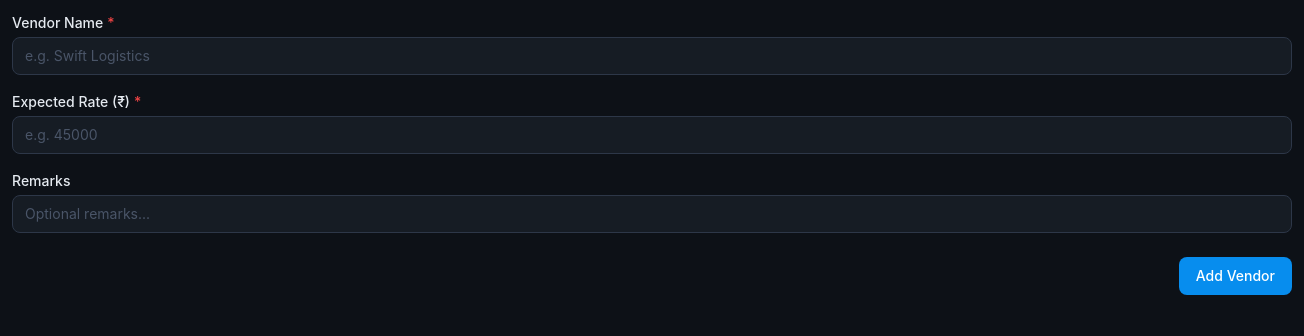
Scenario: AddVendorForm › shows error when rate is negative
Type "Test Vendor" into the field labelled "Vendor Name*" at x=652, y=56, box x1=12 y1=37 x2=1292 y2=75
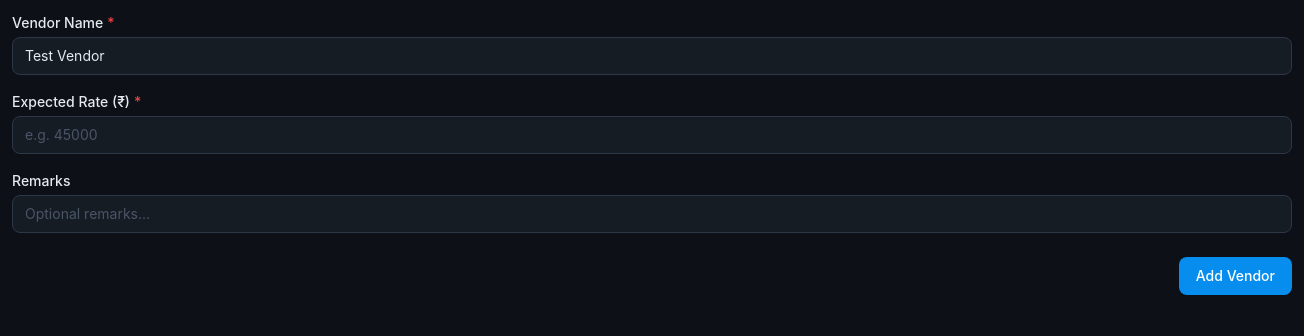
Type "-500" into the number field labelled "Expected Rate (₹)*" at x=652, y=135, box x1=12 y1=116 x2=1292 y2=154
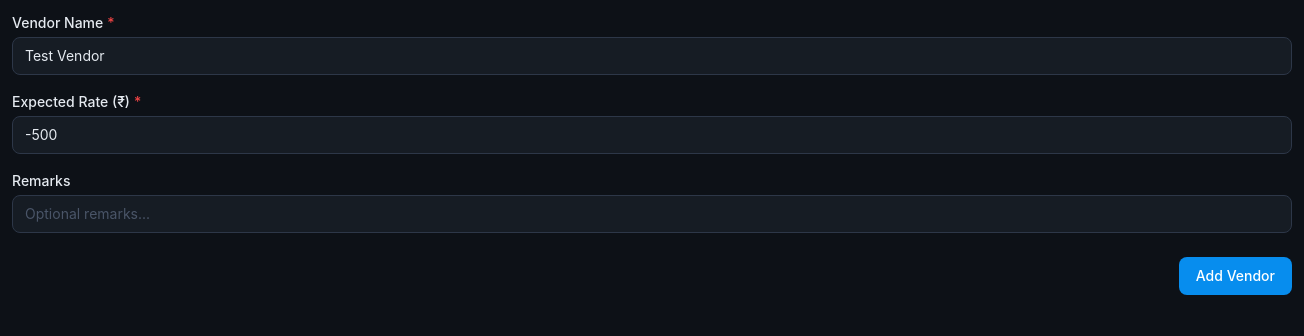
Click the button "Add Vendor" at x=1235, y=276, box x1=1179 y1=257 x2=1292 y2=295
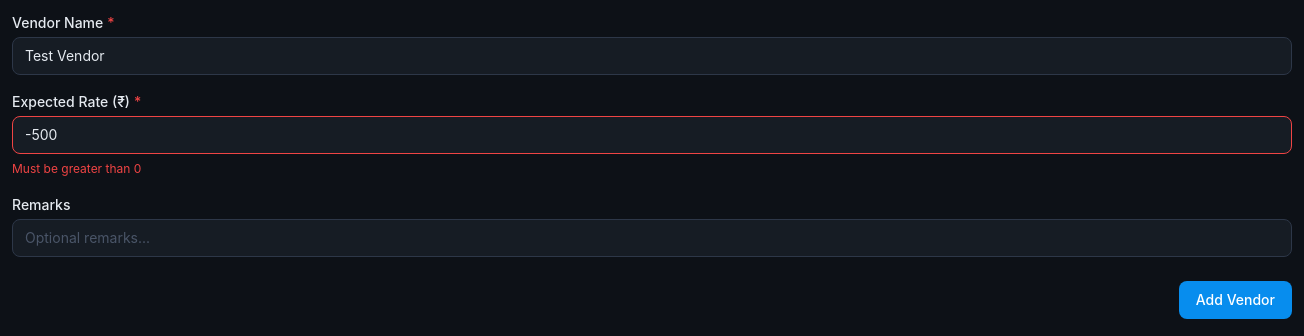
Expected: the text "Must be greater than 0" is shown, x1=12 y1=161 x2=141 y2=176
